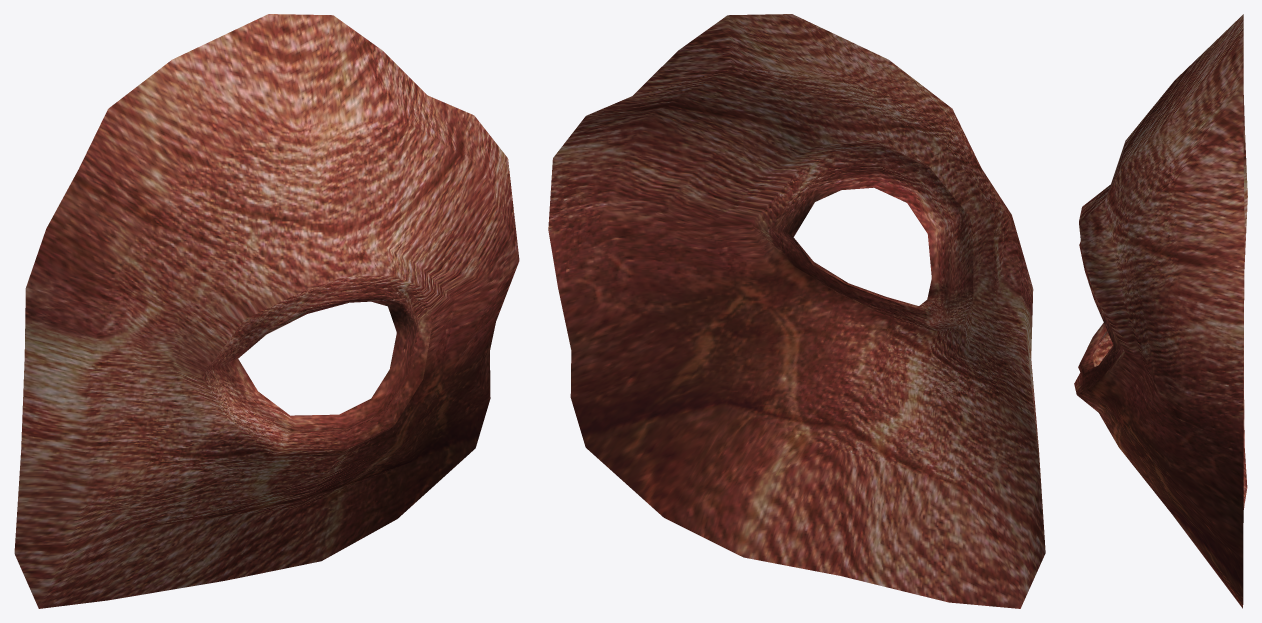
File: eyelids.glb
3 renders of one model, left to right at view 1: azimuth 30°, elevation 25°; view 2: azimuth 150°, elevation 25°; view 3: azimuth 270°, elevation 25°, orthographic. The views are drawn at different scales.
Visible parts, largest first — view 1: Eyelid; view 2: Eyelid; view 3: Eyelid.
Boxes of the visible parts, bbox=[...] form: Eyelid: bbox=[14, 14, 519, 608]; Eyelid: bbox=[548, 14, 1045, 608]; Eyelid: bbox=[1074, 14, 1247, 608].
Bounding box in the file's own units: 6.5 × 6.96 × 2.06.
Materials: 1 (1 with a texture image).
